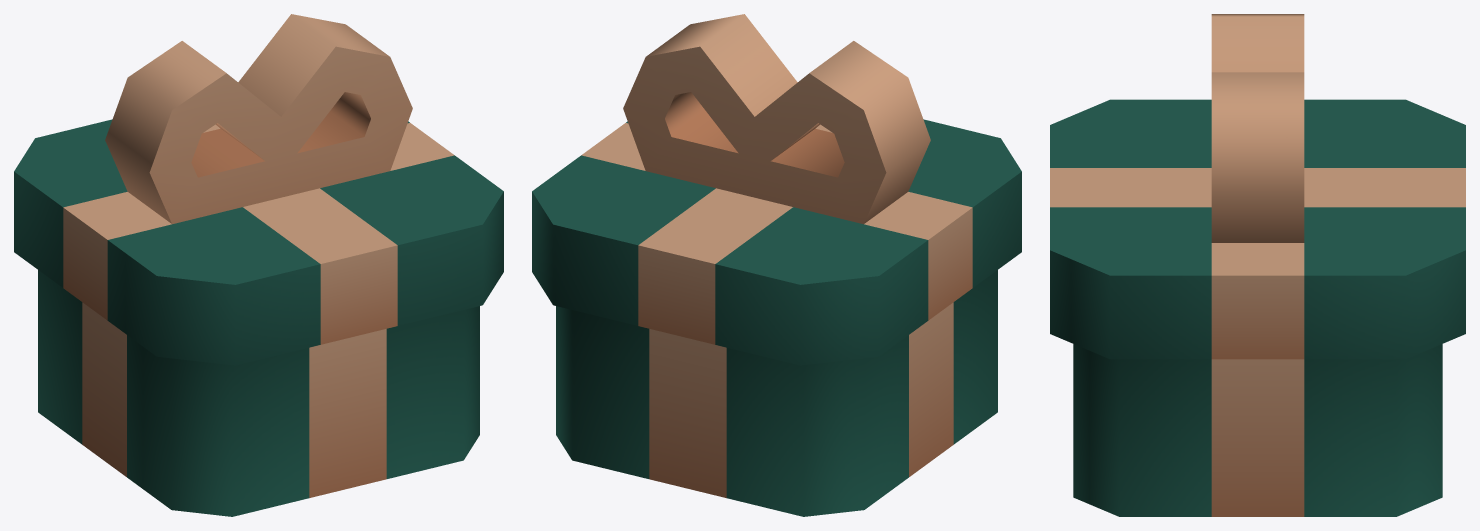
The model's file is present-b-cube.glb.
3 views of the same model, side by side, from view 1: azimuth 30°, elevation 25°; view 2: azimuth 150°, elevation 25°; view 3: azimuth 270°, elevation 25° (orthographic). The views are drawn at different scales.
Visible parts, largest first — view 1: lid, present-b-cube; view 2: lid, present-b-cube; view 3: lid, present-b-cube.
Boxes of the visible parts, bbox=[...] form: lid: bbox=[14, 14, 503, 365]; present-b-cube: bbox=[38, 270, 479, 516]; lid: bbox=[532, 14, 1021, 365]; present-b-cube: bbox=[556, 270, 997, 516]; lid: bbox=[1050, 14, 1465, 359]; present-b-cube: bbox=[1073, 344, 1442, 516].
Bounding box in the file's own units: 0.45 × 0.4707 × 0.45.
